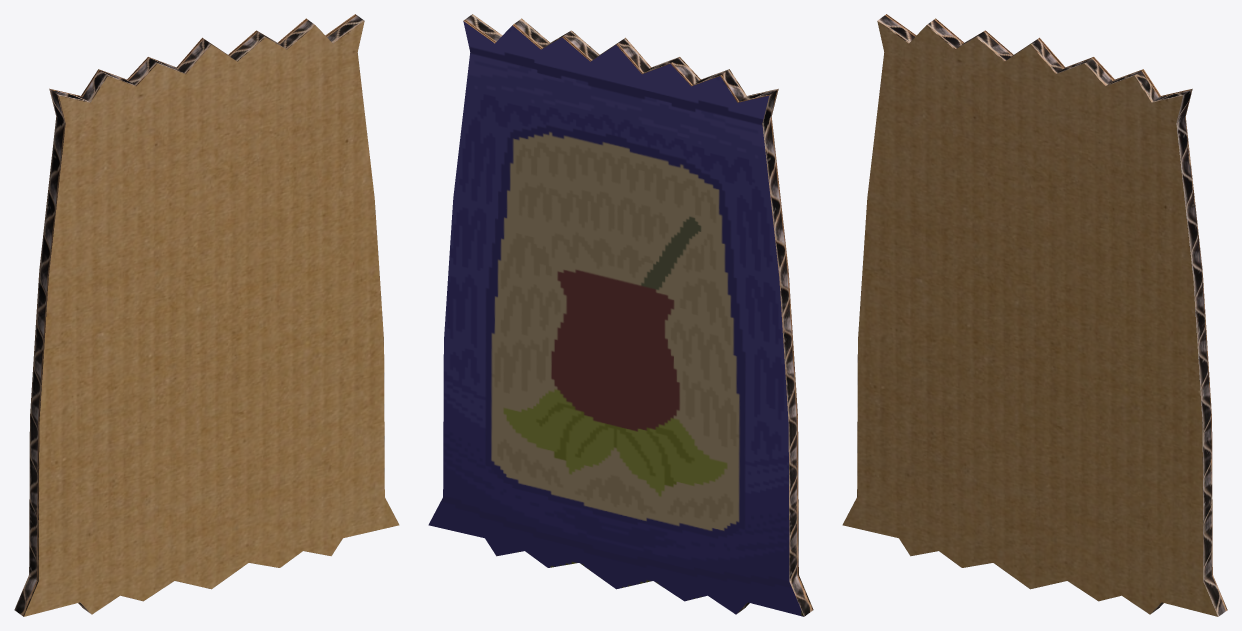
File: YERBA.glb
3 views of the same model, side by side, from view 1: azimuth 30°, elevation 25°; view 2: azimuth 150°, elevation 25°; view 3: azimuth 330°, elevation 25° (orthographic).
Visible parts, largest first — view 1: YERBA; view 2: YERBA; view 3: YERBA.
Part boxes in pixels (x1=…): YERBA: x1=14, y1=14, x2=399, y2=616; YERBA: x1=428, y1=14, x2=813, y2=616; YERBA: x1=842, y1=14, x2=1227, y2=616.
Size of the model in its own units: 4.25 by 5.89 by 0.1842.
Materials: 1 (1 with a texture image).
